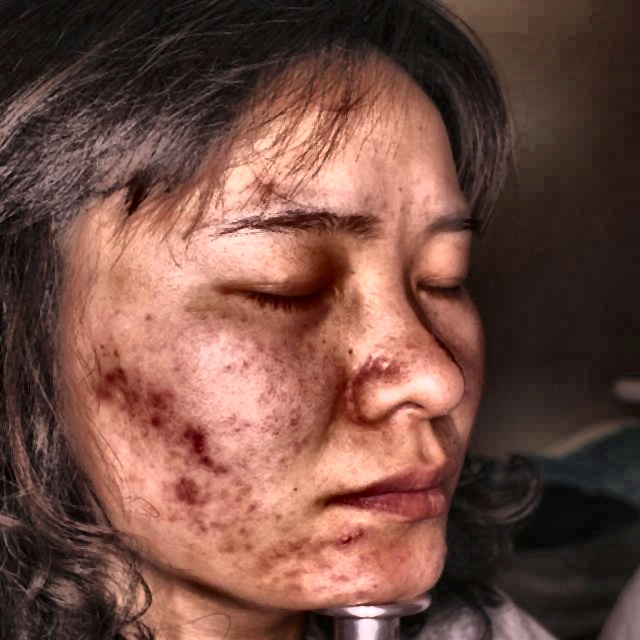pustule: (245, 552, 281, 586), (196, 458, 237, 482), (185, 418, 213, 451), (174, 479, 202, 502), (142, 405, 166, 431), (281, 534, 311, 554), (147, 383, 175, 401), (94, 377, 115, 400), (334, 530, 360, 548), (257, 171, 278, 193), (101, 362, 128, 378)
